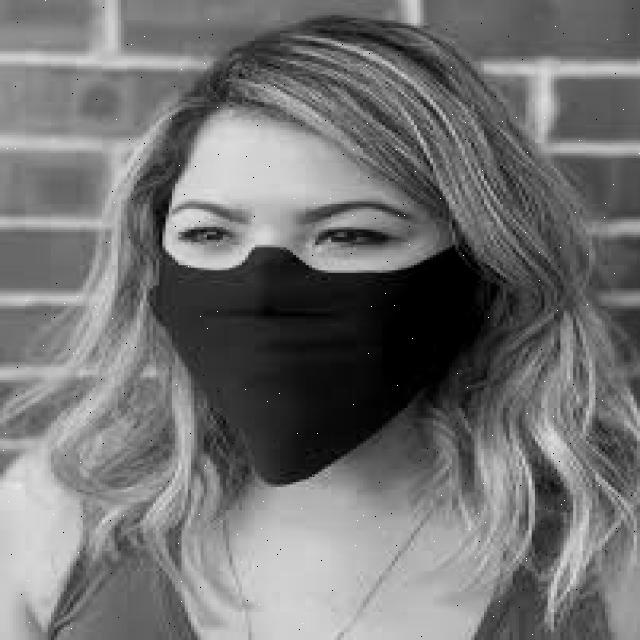fake: (151, 234, 481, 492)
real: (152, 112, 453, 479)
